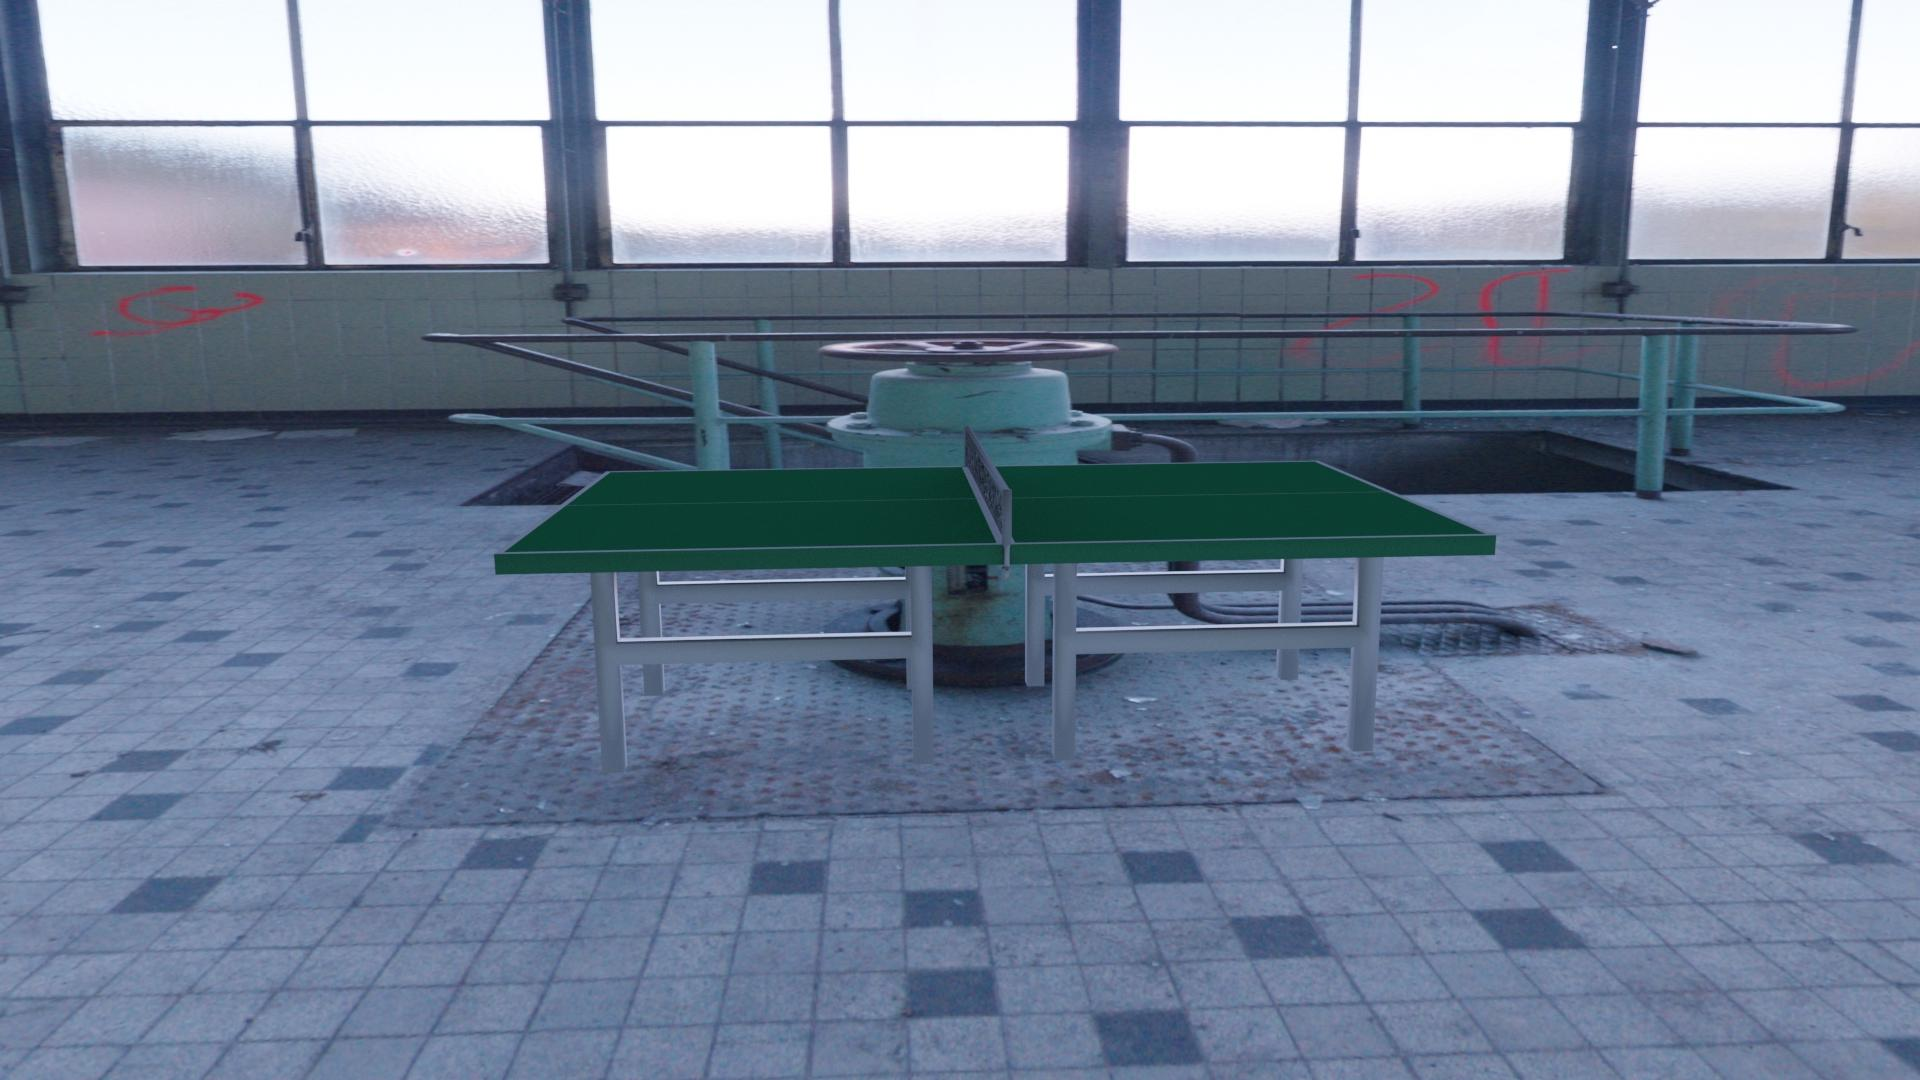table: (504, 462, 1486, 553)
